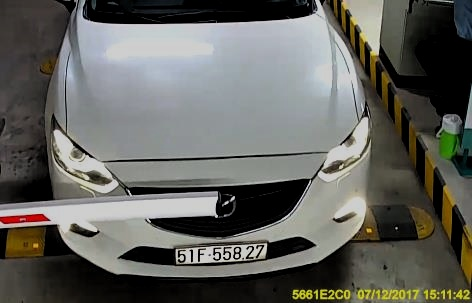plate: (173, 236, 276, 266)
